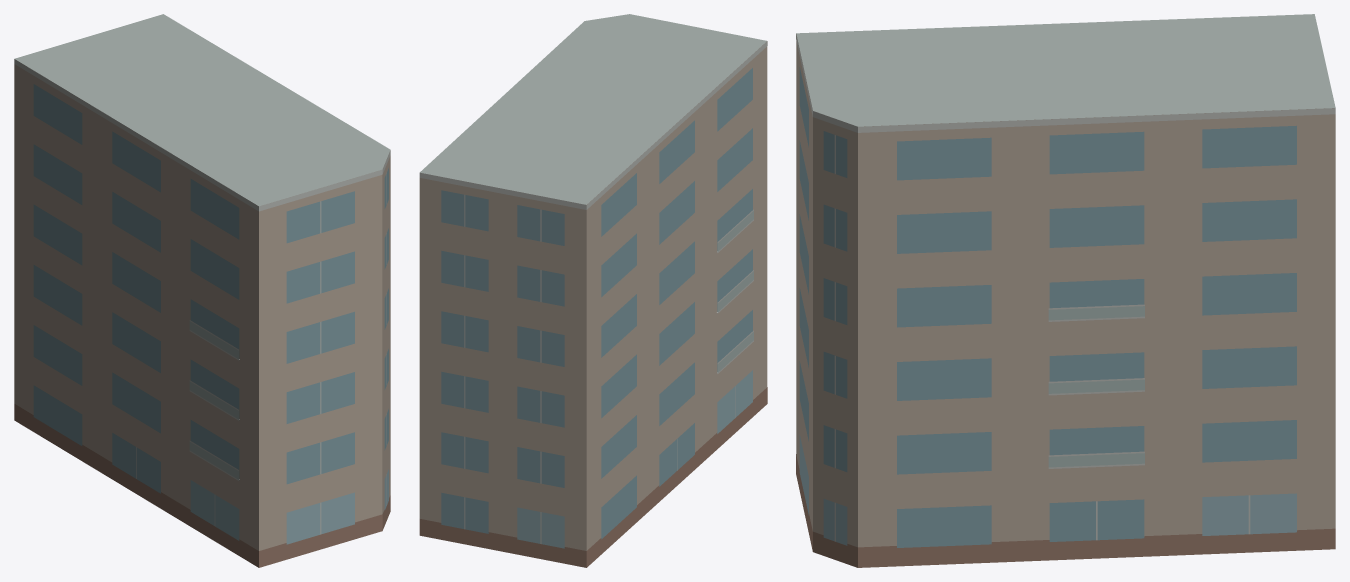
Rendered from survey-upis-32609702.glb.
3 views of the same model, side by side, from view 1: azimuth 30°, elevation 25°; view 2: azimuth 150°, elevation 25°; view 3: azimuth 270°, elevation 25° (orthographic). The views are drawn at different scales.
Parts seen in each view (by area): view 1: survey-upis-32609702.tmp; view 2: survey-upis-32609702.tmp; view 3: survey-upis-32609702.tmp.
Boxes of the visible parts, <box> form: survey-upis-32609702.tmp: <box>14,14,390,567</box>; survey-upis-32609702.tmp: <box>419,14,767,567</box>; survey-upis-32609702.tmp: <box>796,14,1335,567</box>.
Size of the model in its own units: 9.43 by 17.2 by 19.07.
